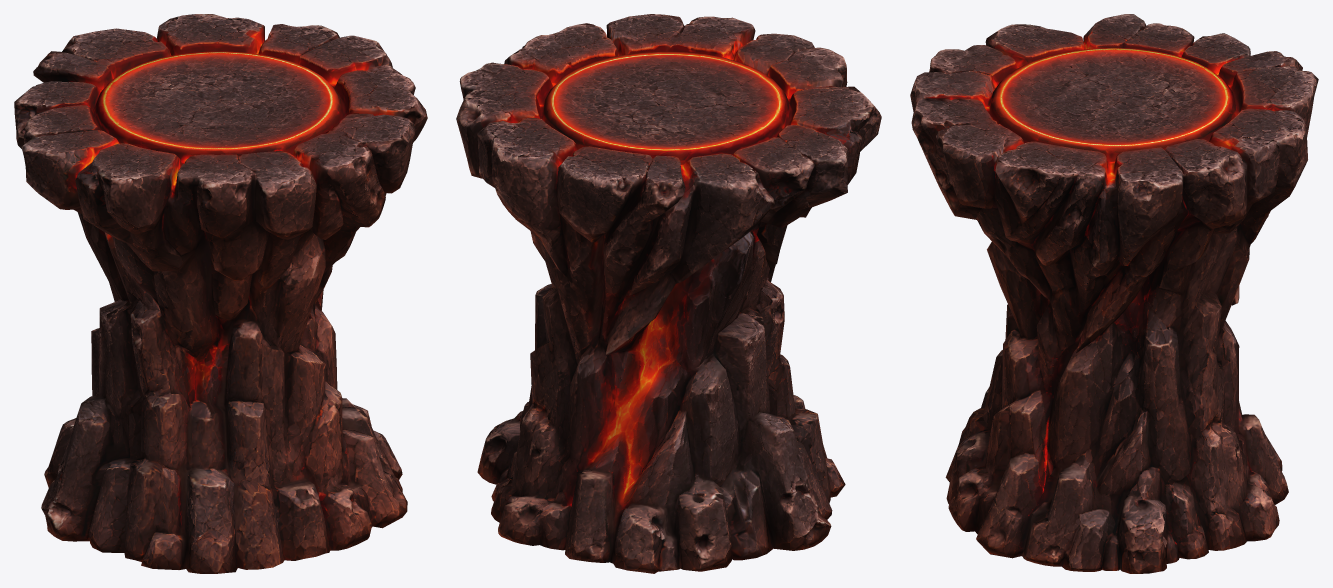
File: pedestal.fbx.fbx
3 views of the same model, side by side, from view 1: azimuth 30°, elevation 25°; view 2: azimuth 150°, elevation 25°; view 3: azimuth 270°, elevation 25° (orthographic).
Visible parts, largest first — view 1: tripo_27ffb4b4_7ec0_4398_ba58_1cdaa7c40a; view 2: tripo_27ffb4b4_7ec0_4398_ba58_1cdaa7c40a; view 3: tripo_27ffb4b4_7ec0_4398_ba58_1cdaa7c40a.
Boxes of the visible parts, x1=… form: tripo_27ffb4b4_7ec0_4398_ba58_1cdaa7c40a: x1=14, y1=14, x2=427, y2=573; tripo_27ffb4b4_7ec0_4398_ba58_1cdaa7c40a: x1=456, y1=14, x2=881, y2=573; tripo_27ffb4b4_7ec0_4398_ba58_1cdaa7c40a: x1=910, y1=14, x2=1318, y2=573.
Size of the model in its own units: 0.9697 by 1 by 0.9228.
